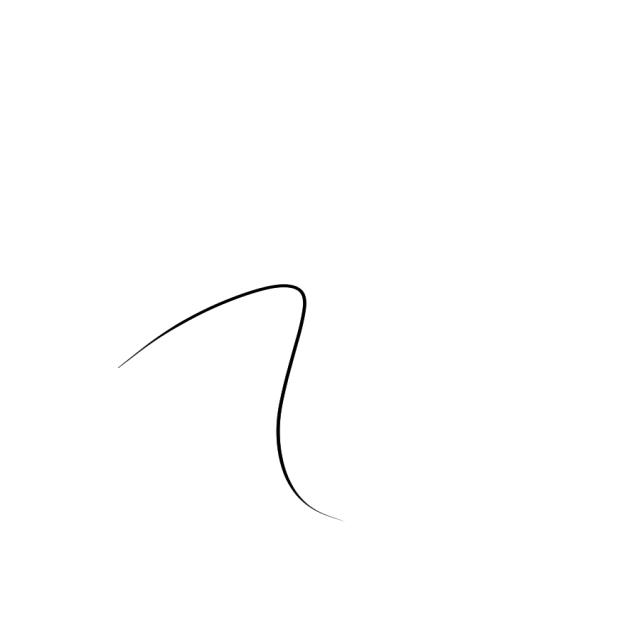hair: (97, 280, 384, 526)
